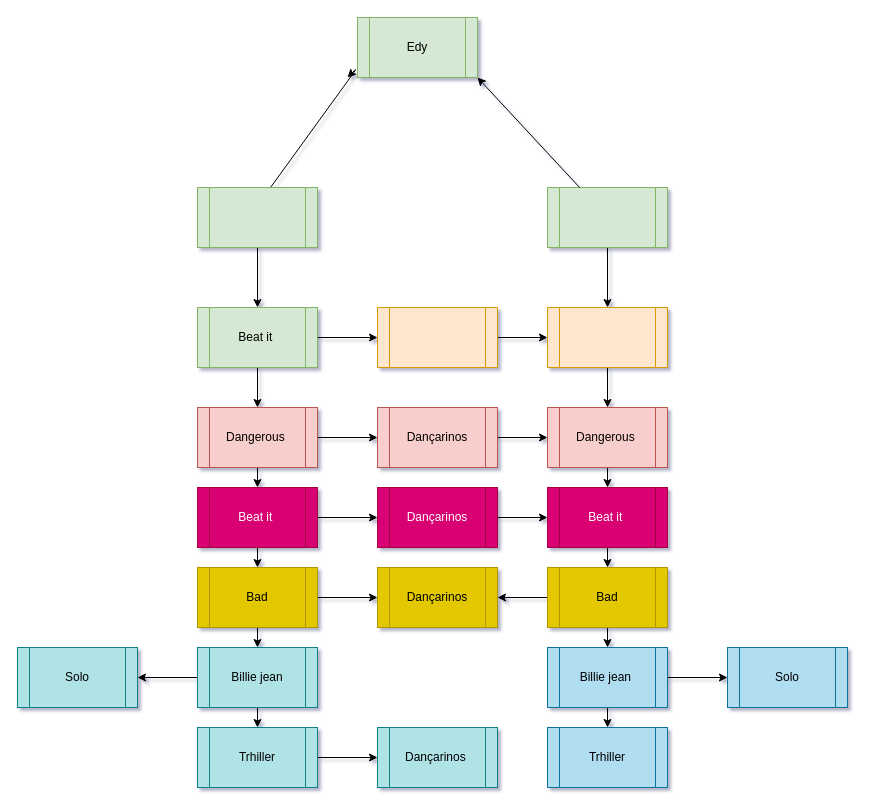
Image size: 871x811. Some labels were removed from this diagram. The box of each missing label's shape, as (x1, y1, x2, y2) in pixels:
Coriografia: (376, 306, 498, 368)
Jam: (546, 306, 668, 368)
Jhonny Matos: (196, 186, 318, 248)
Patrick: (546, 186, 668, 248)
